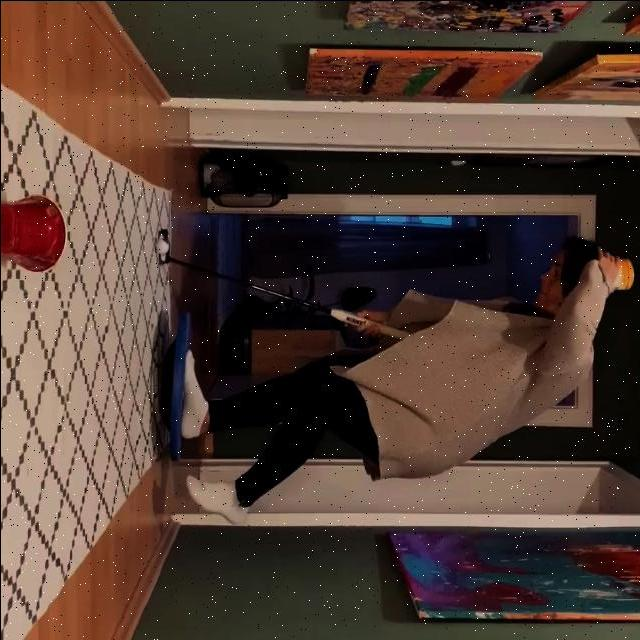ClubHandle: (157, 229, 411, 343)
ClubHead: (157, 230, 169, 267)
GolfBall: (153, 238, 169, 256)
